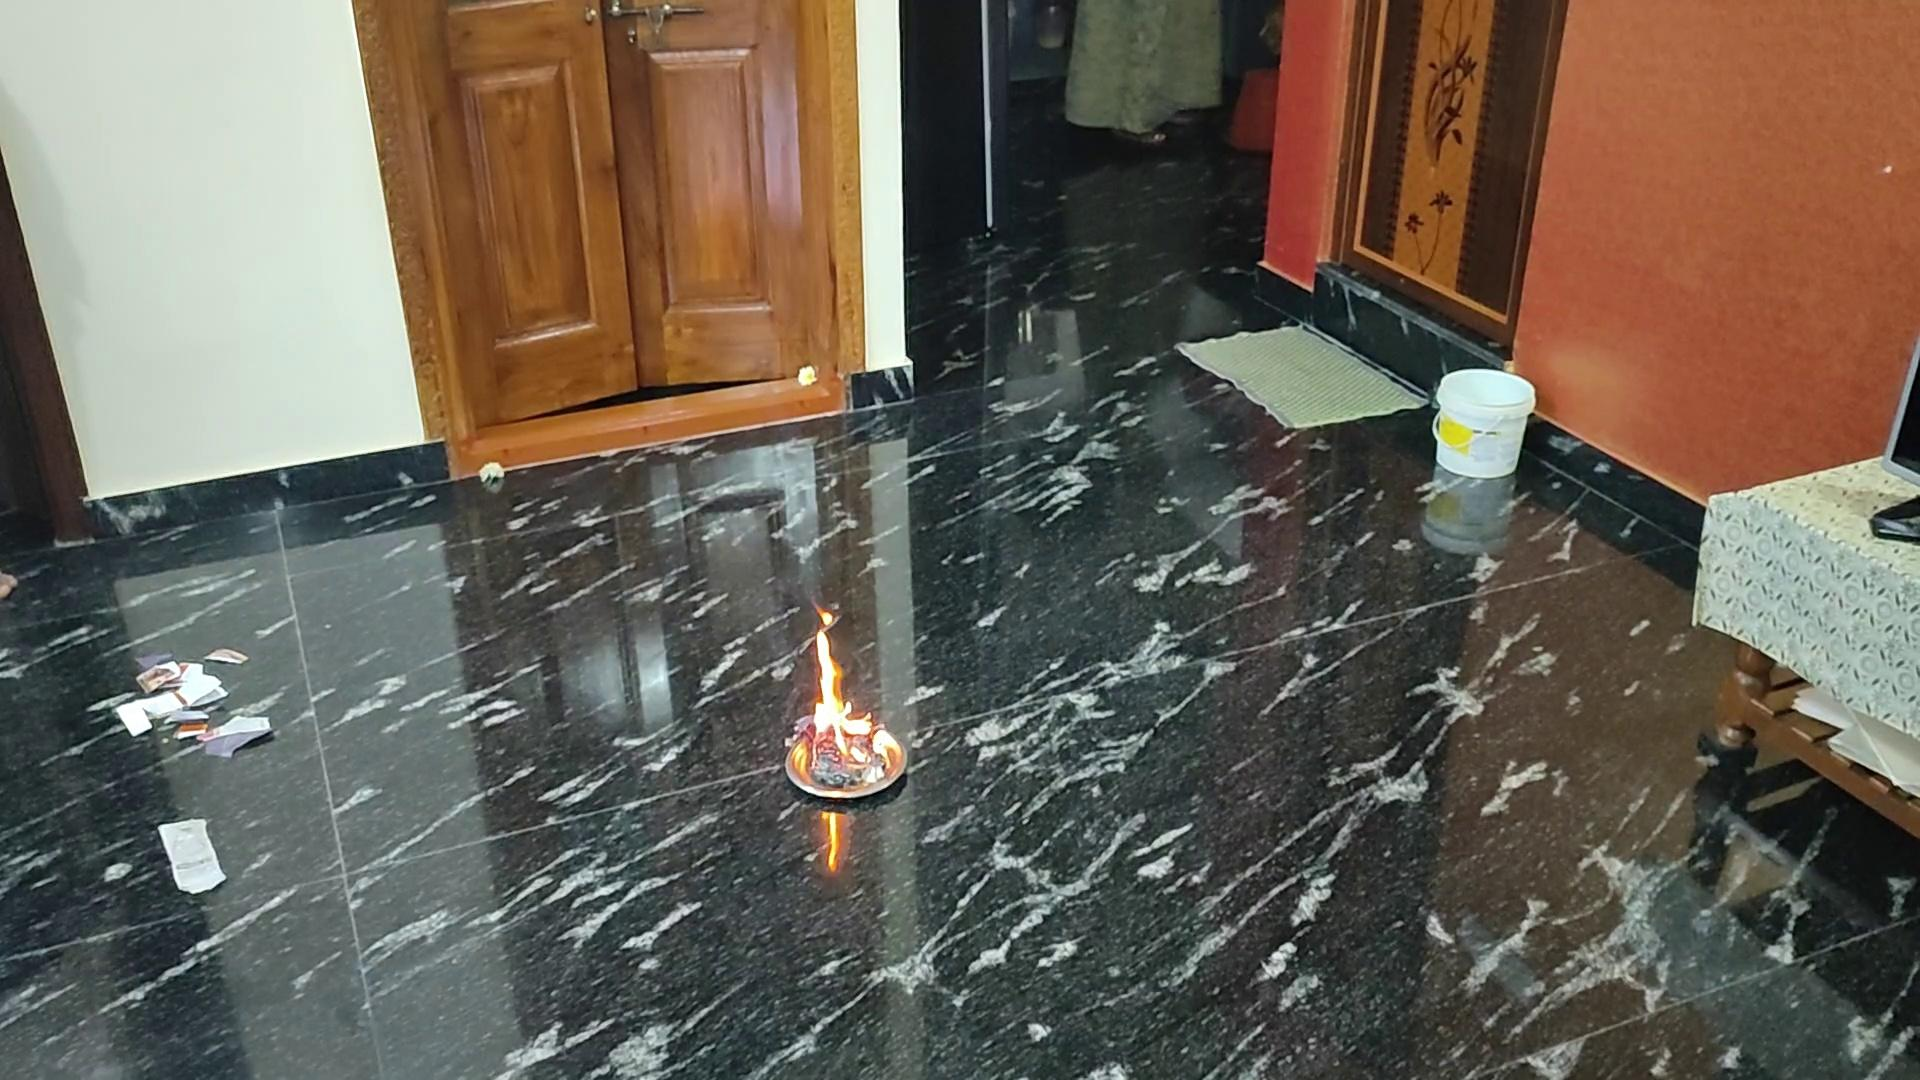Fire: (776, 595, 909, 768)
